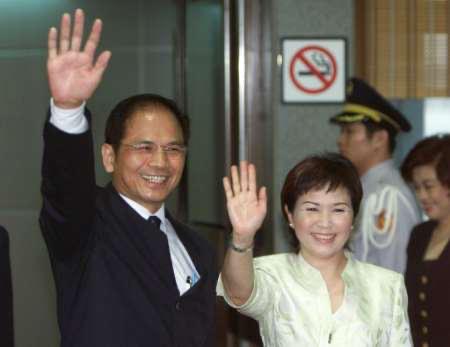Face: (118, 121, 190, 205), (297, 199, 353, 255), (412, 169, 449, 223), (333, 120, 370, 174)
